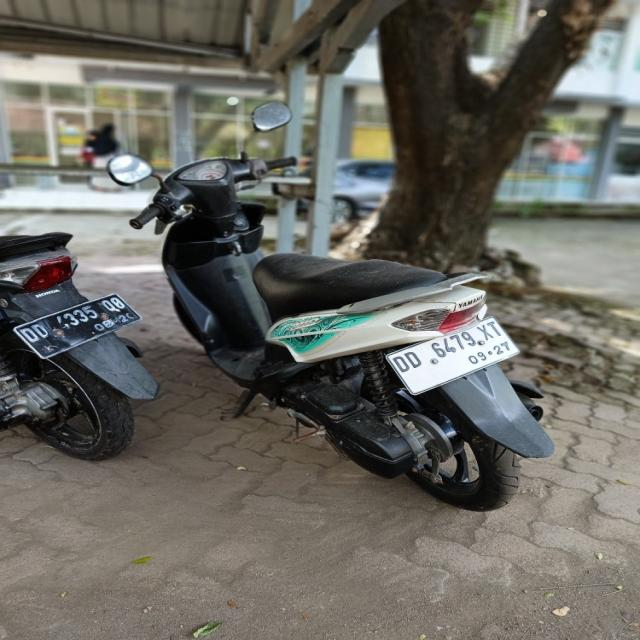plates: (390, 314, 529, 396)
